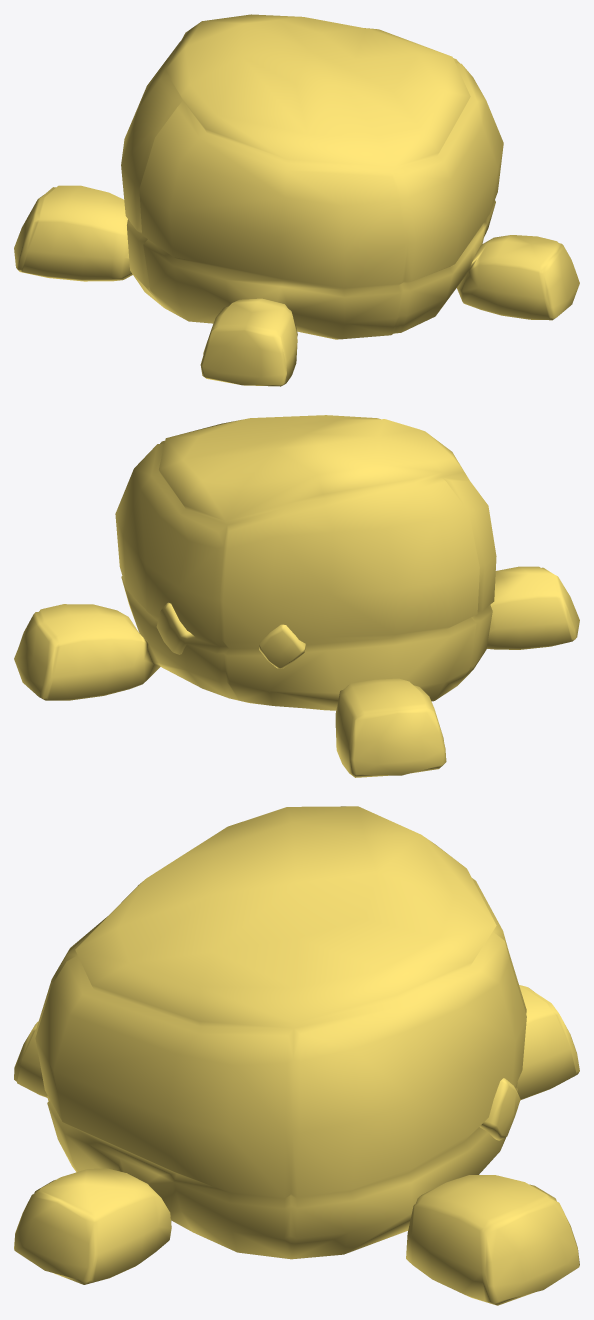
File: CharSkyKid_Prop_AP17Crab.glb
3 renders of one model, top to bottom at view 1: azimuth 30°, elevation 25°; view 2: azimuth 150°, elevation 25°; view 3: azimuth 270°, elevation 25°, orthographic. The views are drawn at different scales.
Parts seen in each view (by area): view 1: CharSkyKid_Prop_AP17Crab; view 2: CharSkyKid_Prop_AP17Crab; view 3: CharSkyKid_Prop_AP17Crab.
Boxes of the visible parts, box(x1,y1,x2,y2) form: CharSkyKid_Prop_AP17Crab: box(14, 14, 579, 386); CharSkyKid_Prop_AP17Crab: box(14, 415, 579, 777); CharSkyKid_Prop_AP17Crab: box(14, 806, 579, 1305).
Bounding box in the file's own units: 3.36 × 1.86 × 2.98.
1 material, 1 textured.
